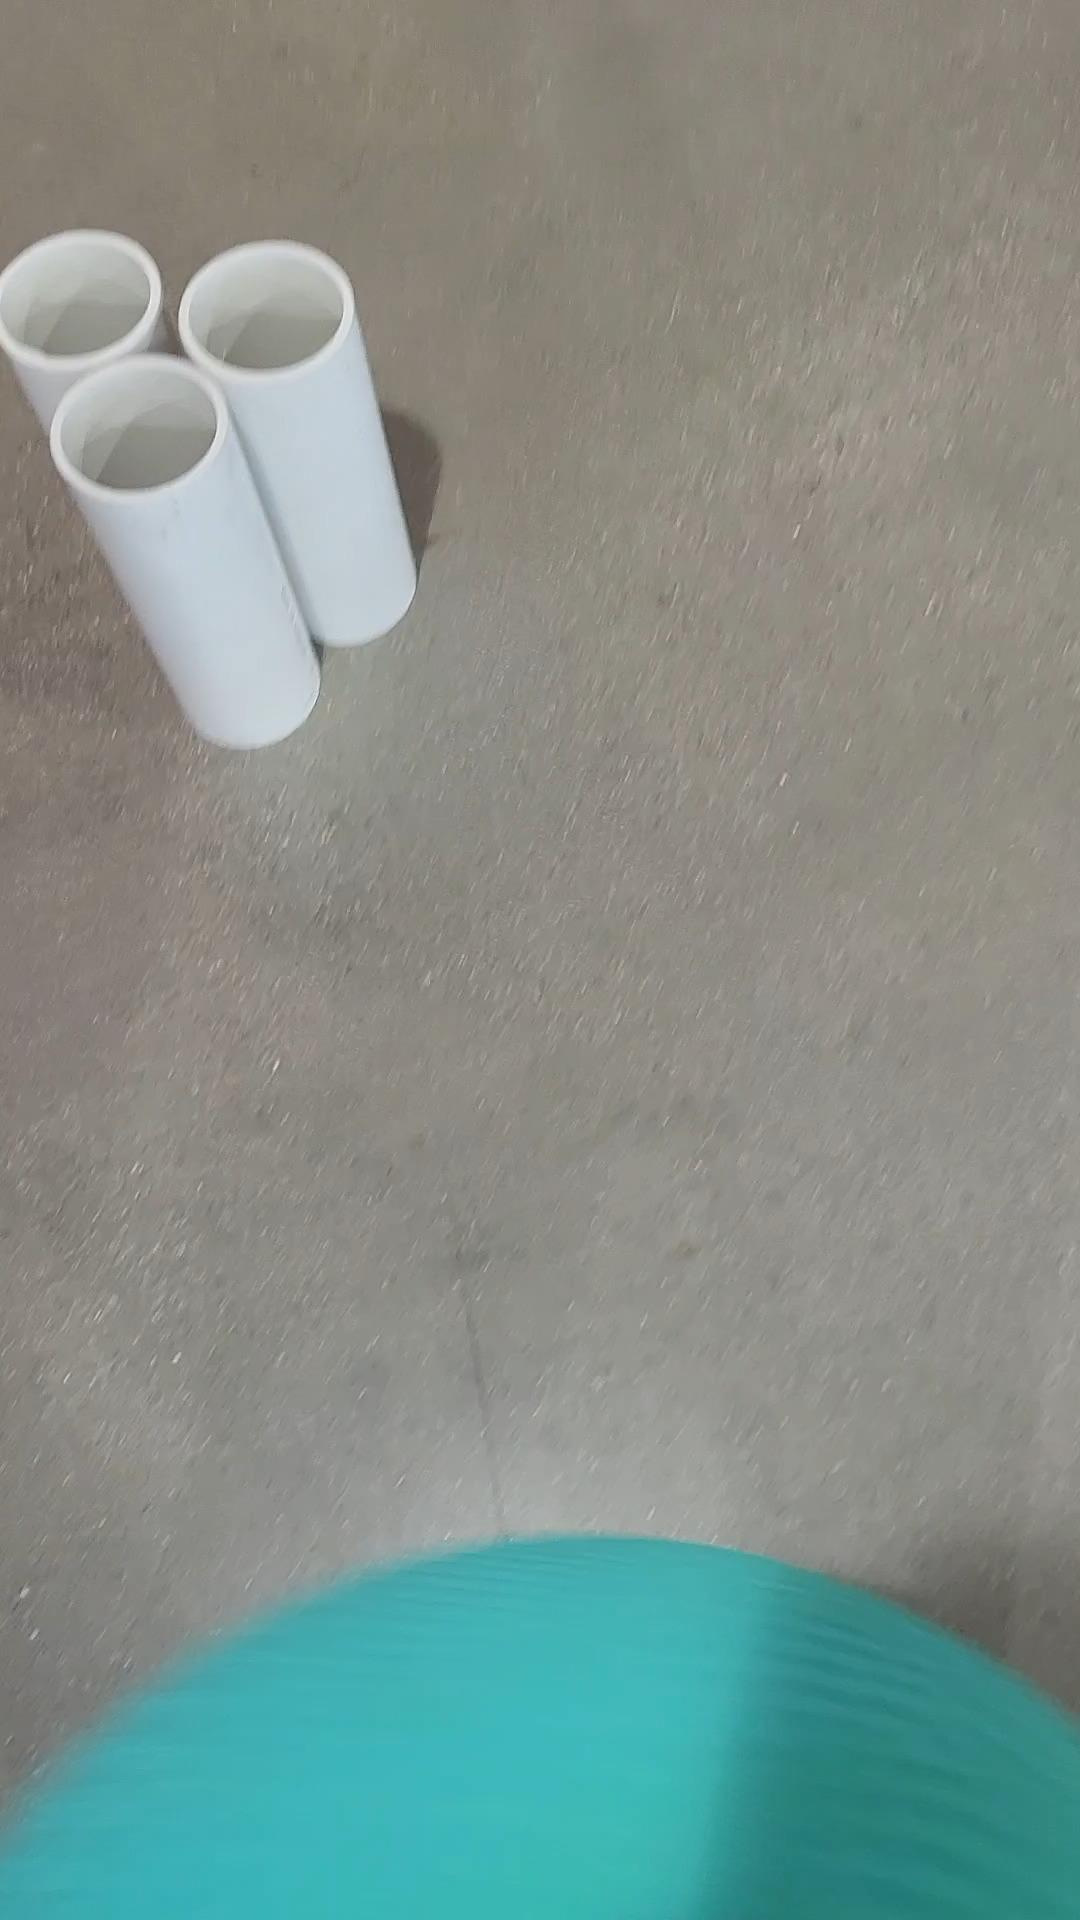algae: (0, 1542, 1080, 1920)
coral: (162, 240, 406, 630), (55, 386, 310, 753), (15, 240, 148, 367)
